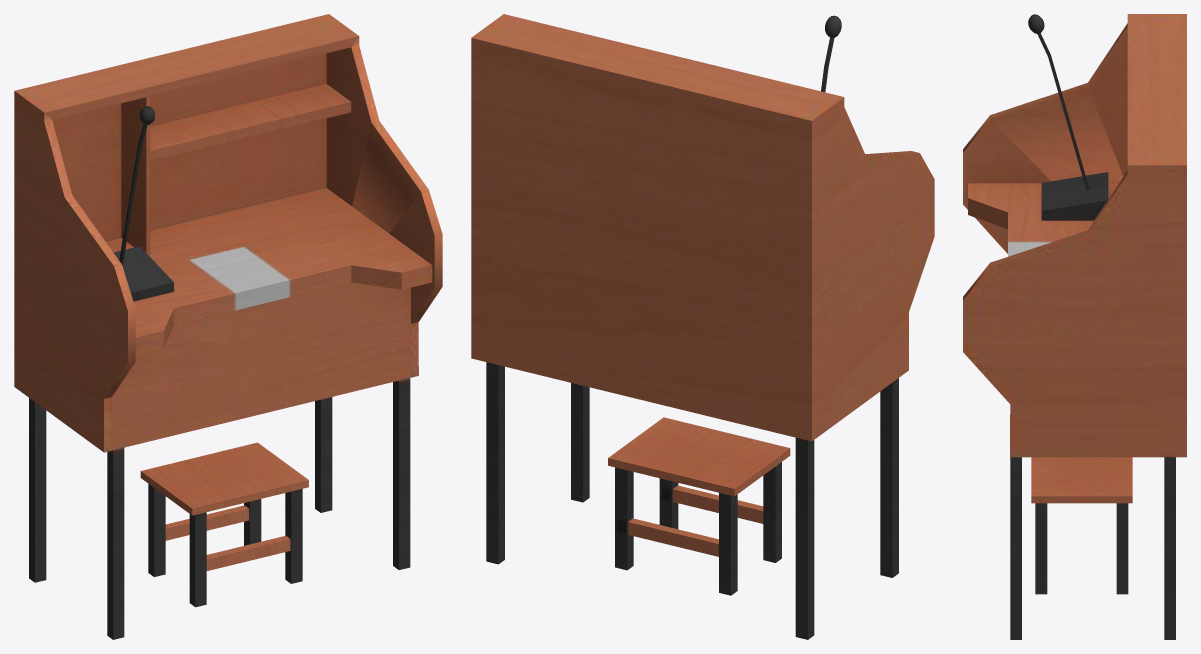
The picture shows the model from 3 angles, left to right: view 1: azimuth 30°, elevation 25°; view 2: azimuth 150°, elevation 25°; view 3: azimuth 270°, elevation 25°; orthographic projection. The views are drawn at different scales.
Parts seen in each view (by area): view 1: Qia_Si_0; view 2: Qia_Si_0; view 3: Qia_Si_0.
Part boxes in pixels (x1=…): Qia_Si_0: x1=14, y1=14, x2=442, y2=639; Qia_Si_0: x1=471, y1=14, x2=934, y2=639; Qia_Si_0: x1=963, y1=14, x2=1186, y2=639.
Size of the model in its own units: 0.8 by 1.24 by 0.5.
1 material, 1 textured.
